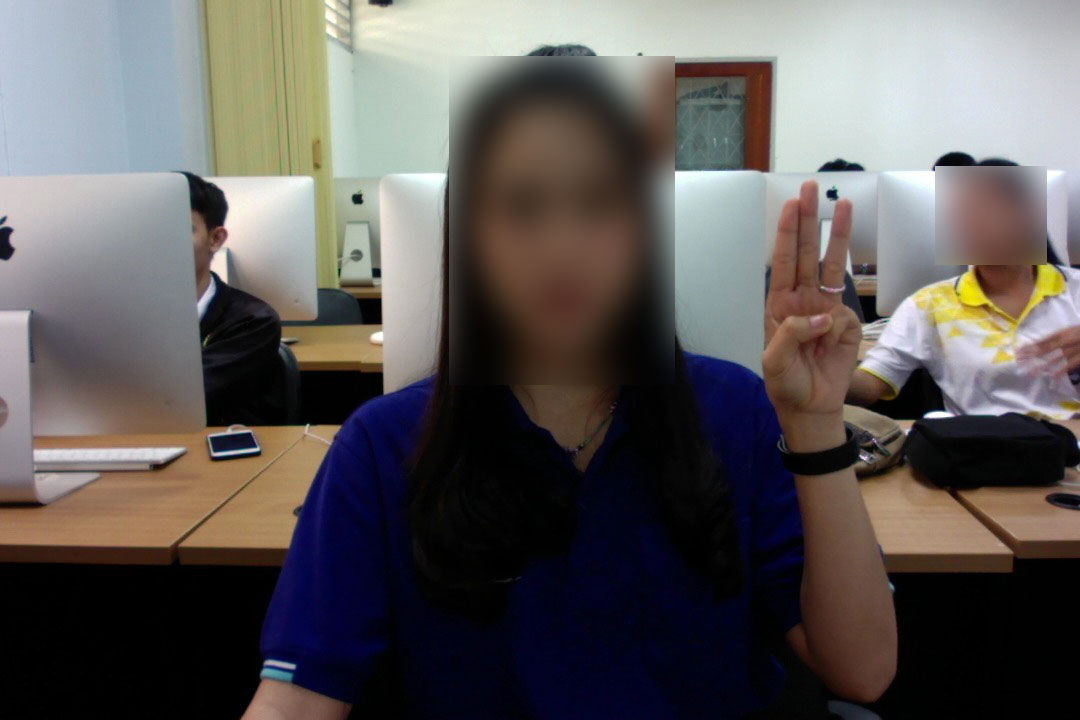wor: (737, 173, 888, 433)
